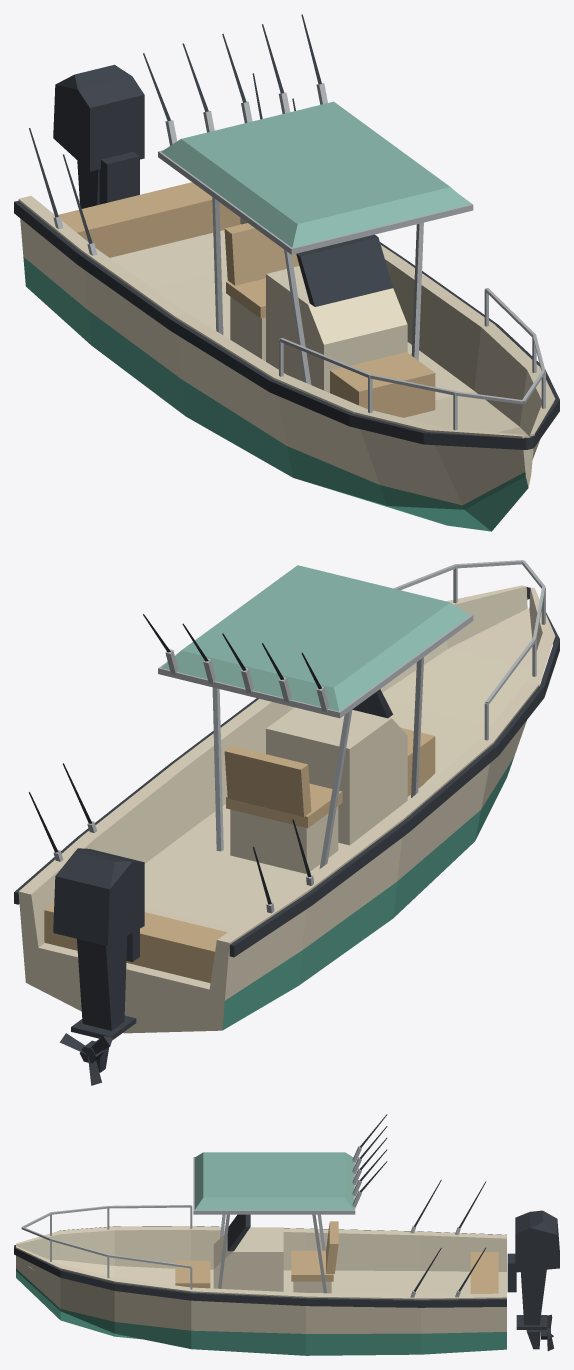
Rendered from boat.glb.
3 renders of one model, top to bottom at view 1: azimuth 30°, elevation 25°; view 2: azimuth 150°, elevation 25°; view 3: azimuth 270°, elevation 25°, orthographic. The views are drawn at different scales.
Visible parts, largest first — view 1: console, hull, outboard; view 2: hull, console, outboard; view 3: hull, console, outboard.
Boxes of the visible parts, x1,y1,x2,y2 form: console: (14, 14, 559, 449); hull: (18, 196, 555, 531); outboard: (53, 64, 144, 208); hull: (18, 585, 555, 1033); console: (14, 560, 559, 983); outboard: (53, 848, 144, 1085); hull: (16, 1226, 506, 1355); console: (14, 1114, 506, 1307); outboard: (507, 1210, 559, 1350).
Bounding box in the file's own units: 2.62 × 3.7 × 8.56.
